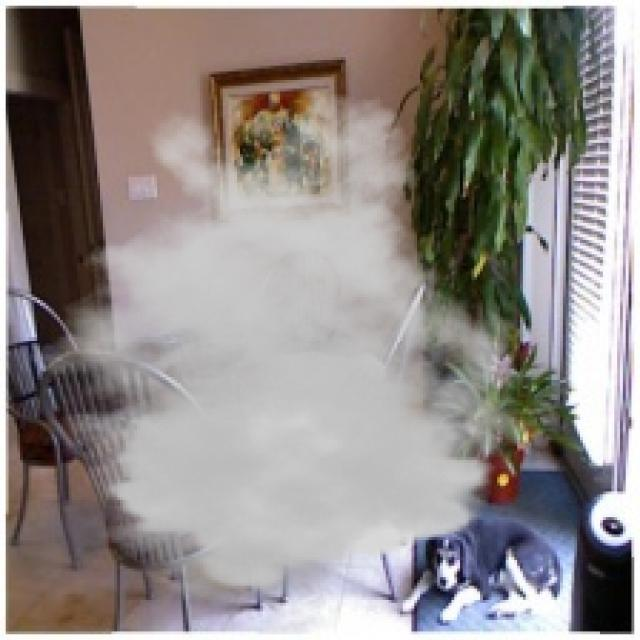smoke: (3, 91, 546, 608)
